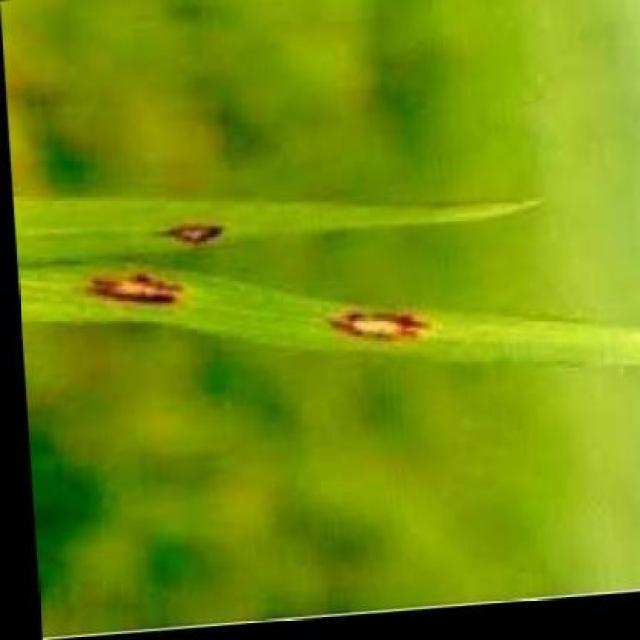Bacterial_Leaf_Blight: (103, 280, 209, 332), (332, 318, 446, 356), (346, 282, 448, 320), (172, 208, 246, 254)
